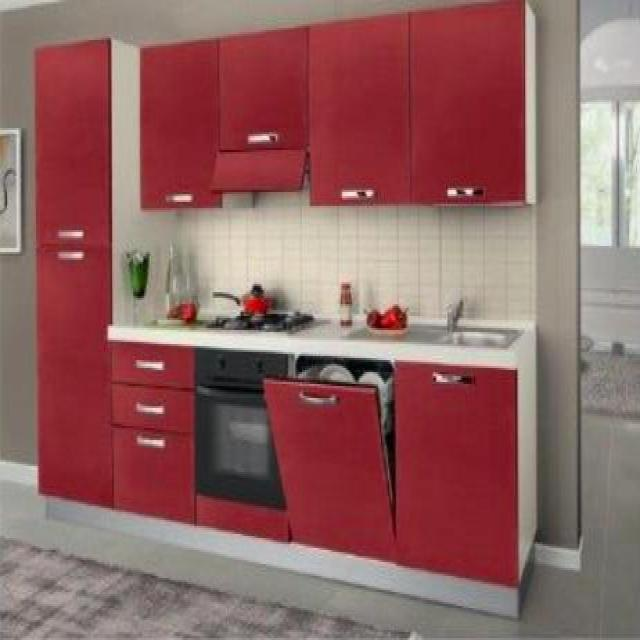dishwasher: (259, 346, 399, 568)
